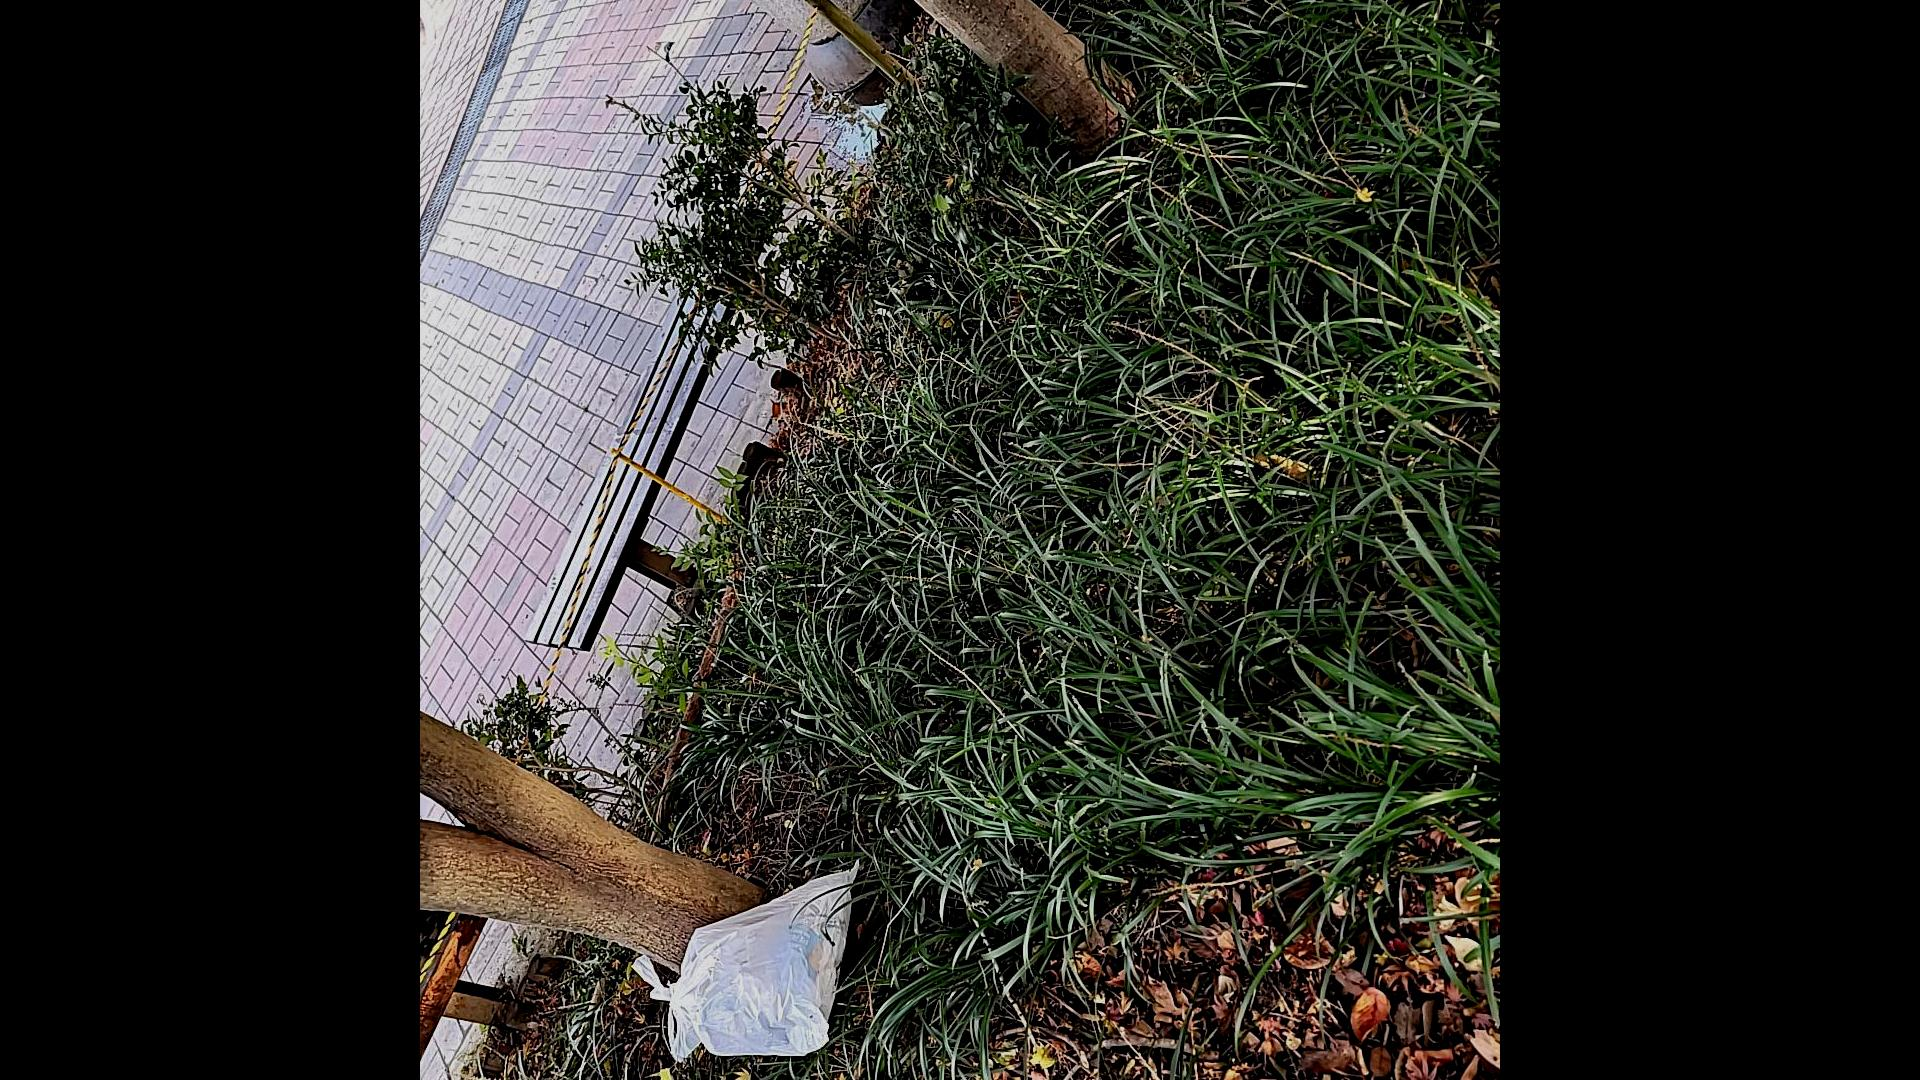white_bag: (632, 852, 874, 1069)
